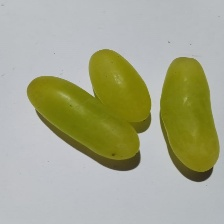grapes: (0, 14, 199, 190)
